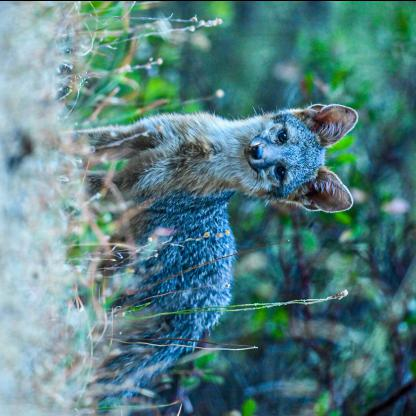zorro: (58, 99, 356, 415)
